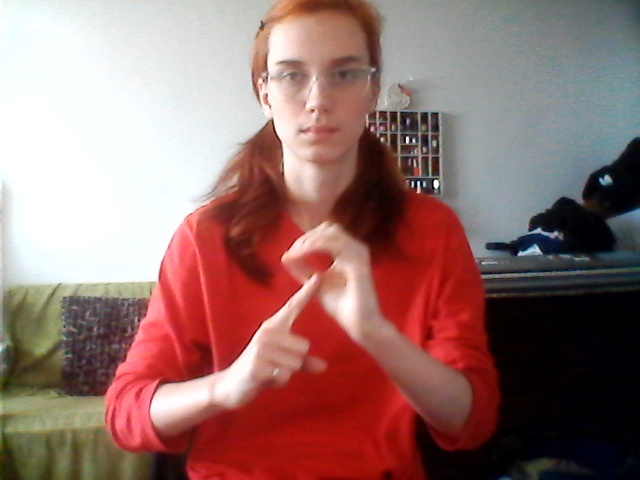q: (218, 218, 398, 420)
